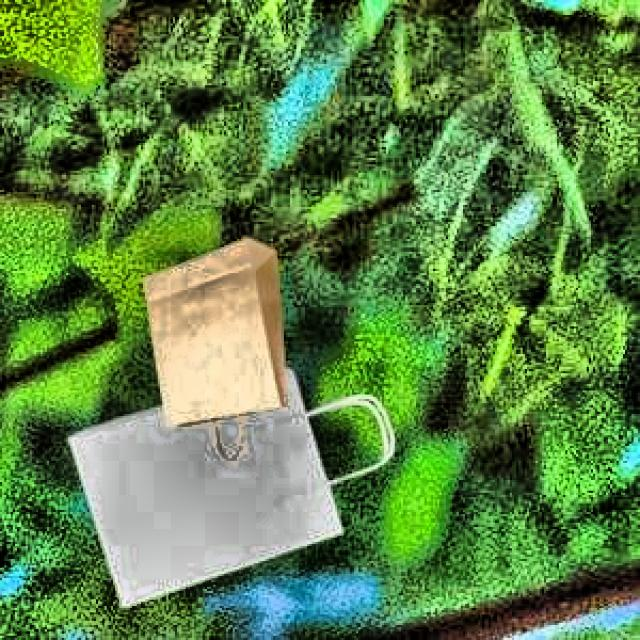Paper-bag: (53, 368, 407, 600), (131, 239, 306, 465)
